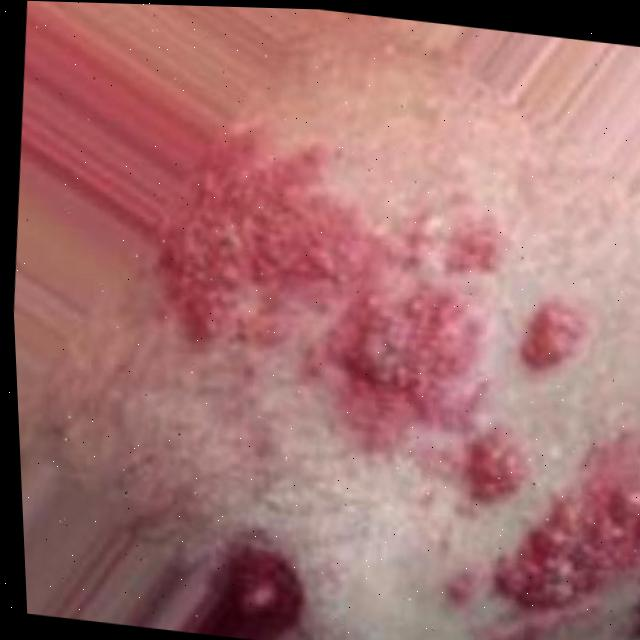Shingles: (157, 139, 575, 491), (514, 498, 640, 640)
